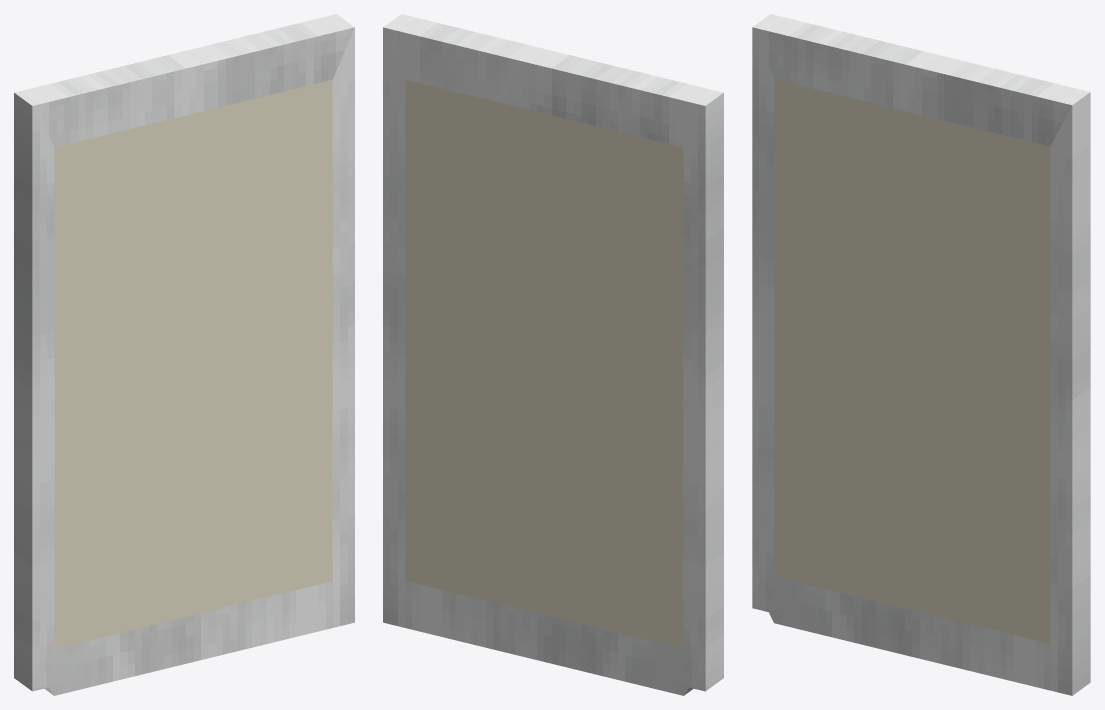
The model's file is Pvz_Doors.glb.
3 views of the same model, side by side, from view 1: azimuth 30°, elevation 25°; view 2: azimuth 150°, elevation 25°; view 3: azimuth 330°, elevation 25° (orthographic).
Visible parts, largest first — view 1: Plane; view 2: Plane; view 3: Plane.
Boxes of the visible parts, x1,y1,x2,y2 form: Plane: [14, 14, 354, 695]; Plane: [383, 14, 723, 695]; Plane: [752, 14, 1090, 695].
Size of the model in its own units: 1.13 by 2 by 0.1116.
2 materials, 1 textured.
